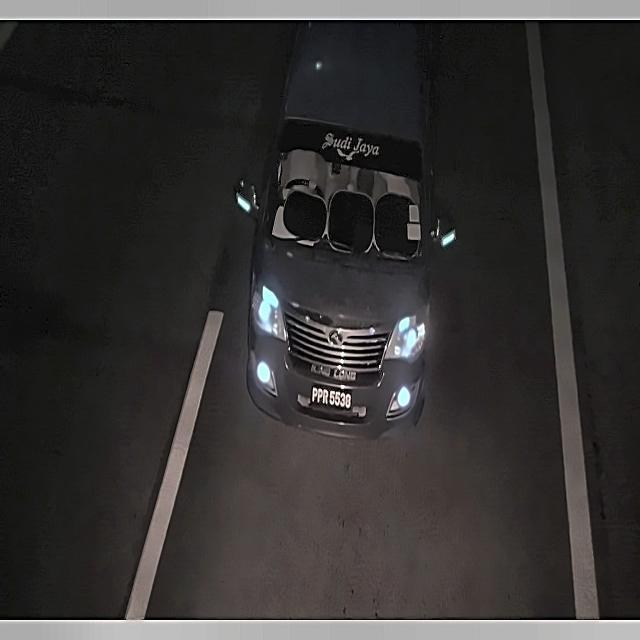car: (308, 380, 360, 415)
